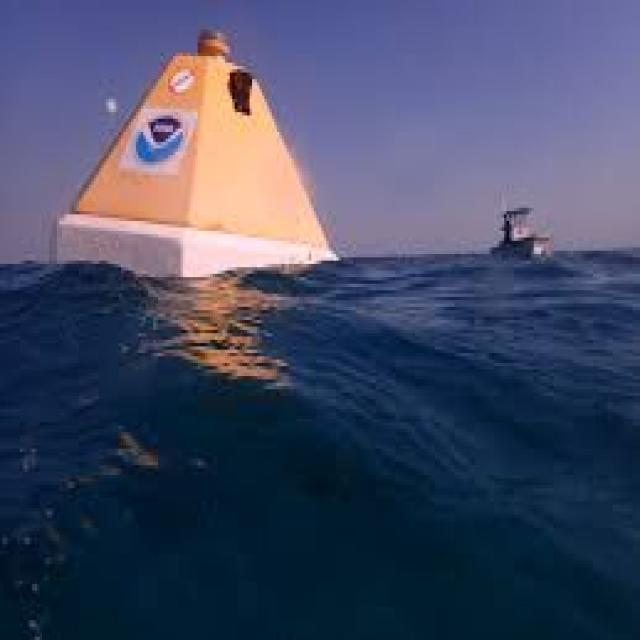2.5 sepcial mark: (53, 1, 348, 300)
